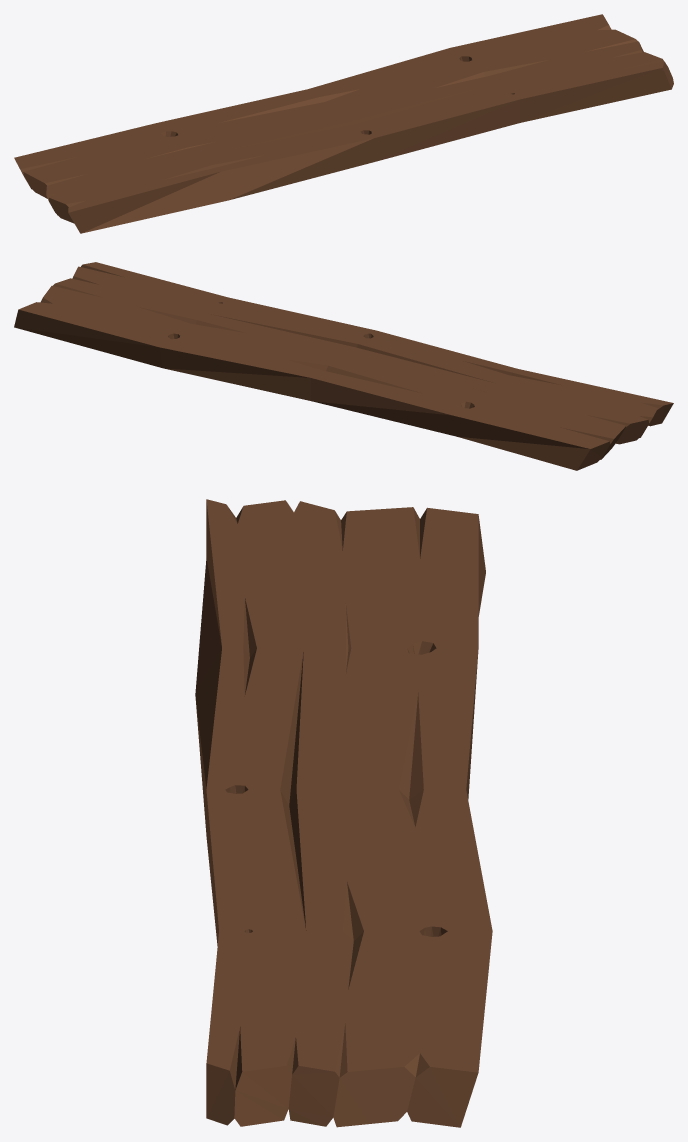
Rendered from Holzbrett.fbx.
The picture shows the model from 3 angles, top to bottom: view 1: azimuth 30°, elevation 25°; view 2: azimuth 150°, elevation 25°; view 3: azimuth 270°, elevation 25°; orthographic projection. The views are drawn at different scales.
Parts seen in each view (by area): view 1: Brett; view 2: Brett; view 3: Brett.
Boxes of the visible parts, bbox=[...] form: Brett: bbox=[14, 14, 673, 233]; Brett: bbox=[14, 262, 673, 470]; Brett: bbox=[195, 499, 492, 1127].
Bounding box in the file's own units: 100 × 3.73 × 21.58.
